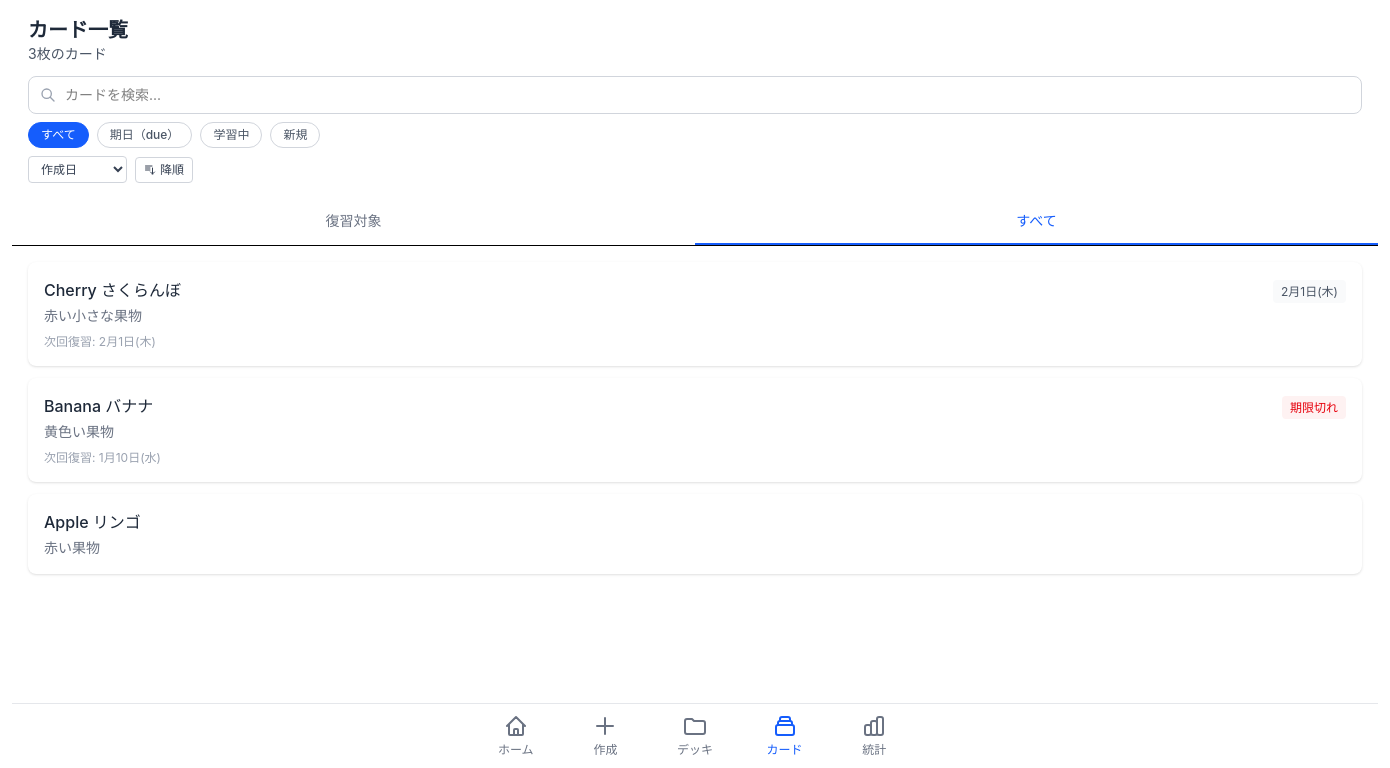
Test case: CardsPage › 検索・フィルター統合テスト › 検索バー入力でカードがフィルタリングされる
In the search field with test id "search-bar-input": (695, 95) [28, 76, 1362, 114], type "Apple"
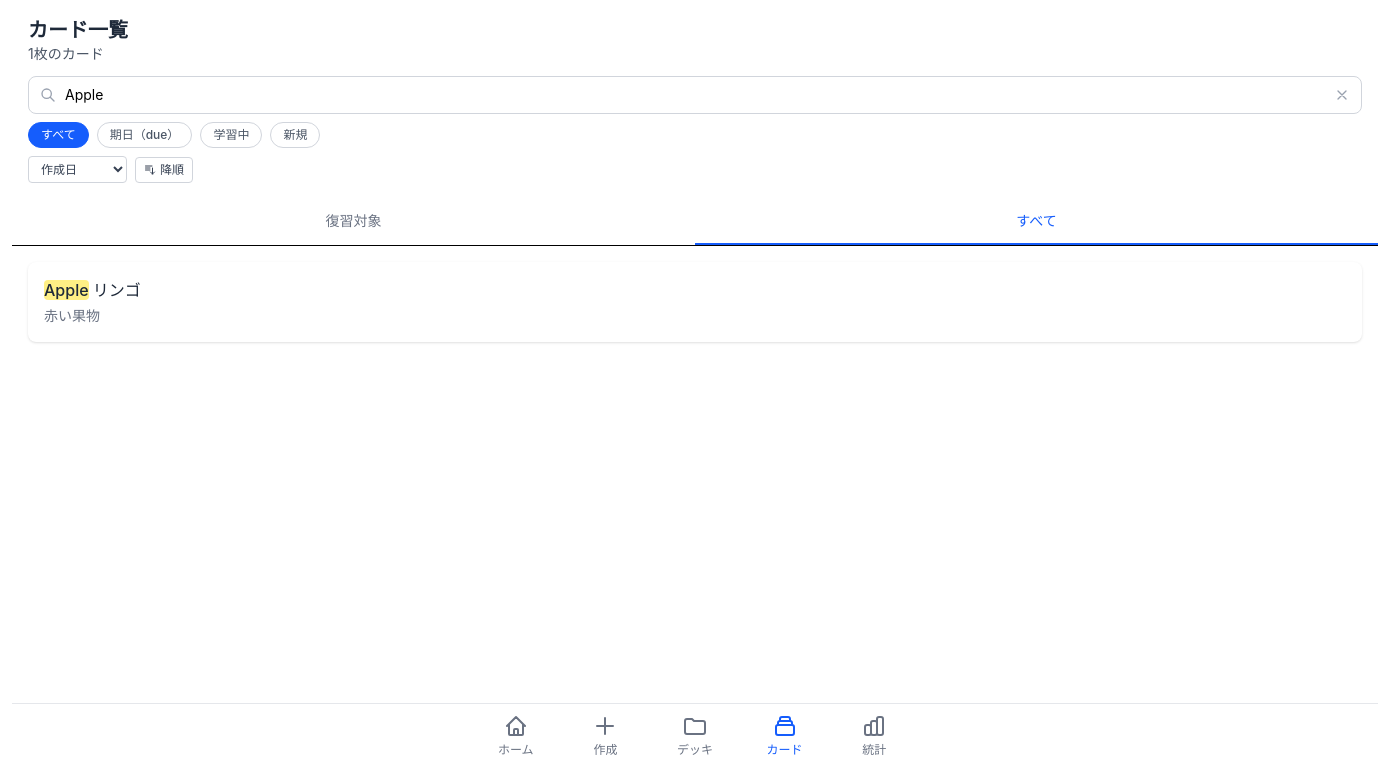
Expected: the link with test id "card-item-s1" is shown, [28, 262, 1362, 342]
Now the link with test id "card-item-s2" is gone
Now the link with test id "card-item-s3" is gone
